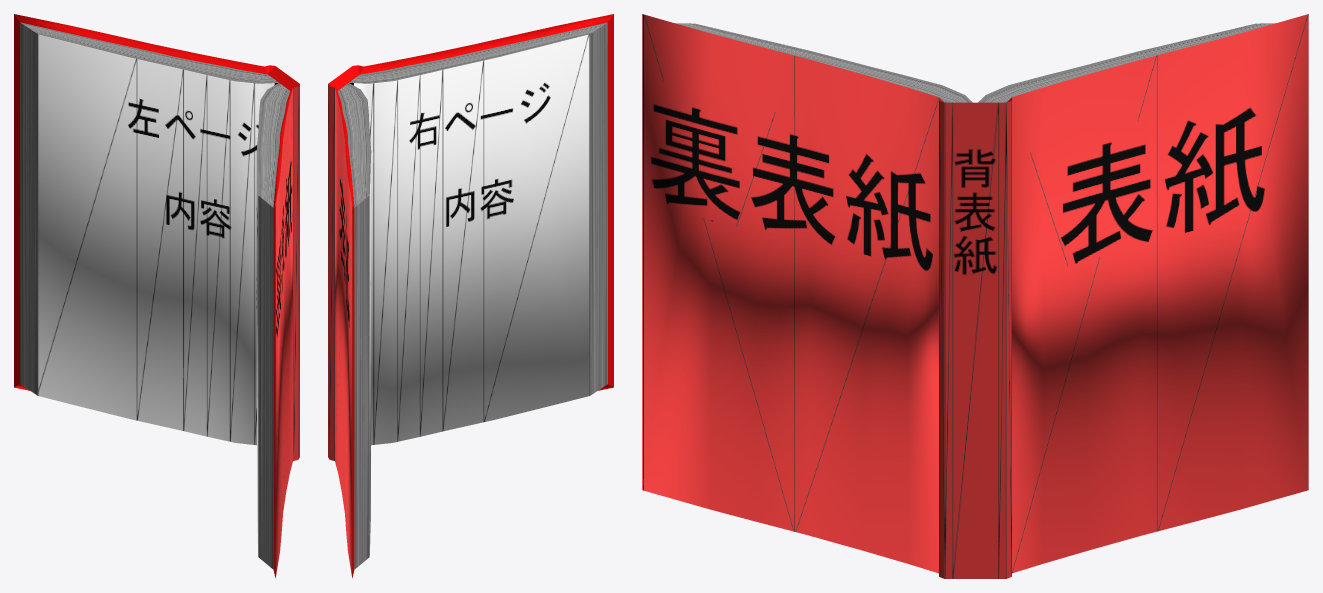
The model's file is Book2.fbx.
3 views of the same model, side by side, from view 1: azimuth 30°, elevation 25°; view 2: azimuth 150°, elevation 25°; view 3: azimuth 270°, elevation 25° (orthographic). The views are drawn at different scales.
Visible parts, largest first — view 1: Book.001; view 2: Book.001; view 3: Book.001.
Part boxes in pixels (x1,y1,x2,y2): Book.001: (14, 14, 299, 578); Book.001: (328, 14, 613, 578); Book.001: (642, 14, 1308, 578).
Size of the model in its own units: 31.97 by 79.97 by 101.
